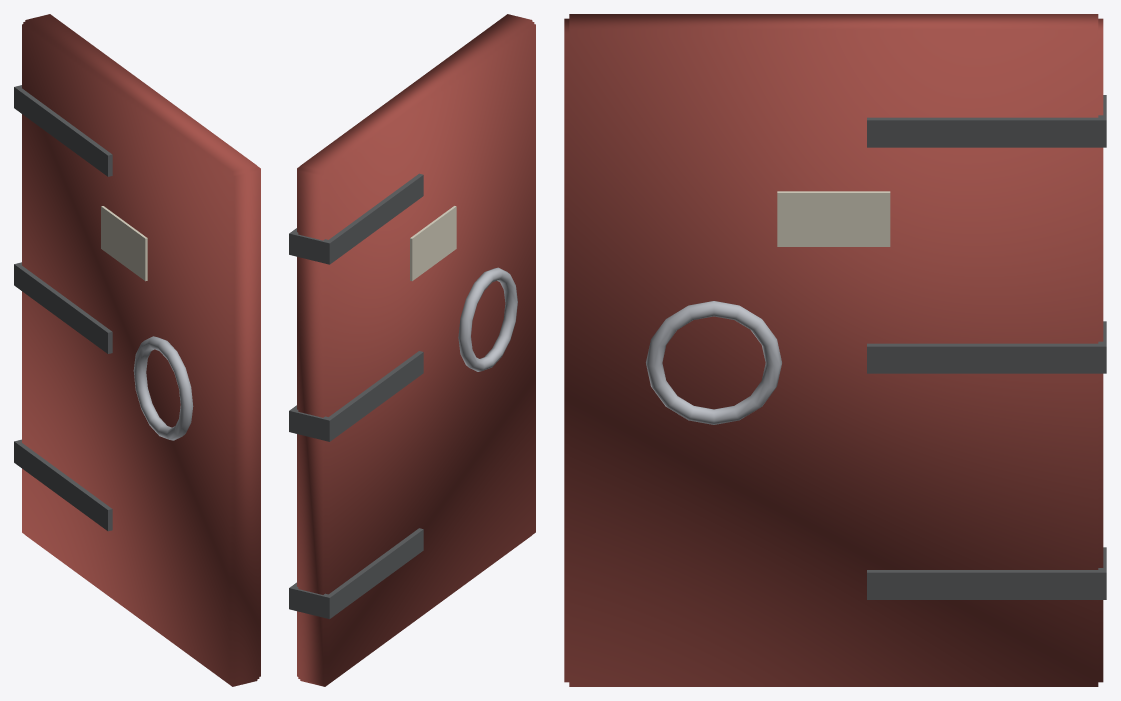
File: red_bulkhead_door.glb
3 views of the same model, side by side, from view 1: azimuth 30°, elevation 25°; view 2: azimuth 150°, elevation 25°; view 3: azimuth 270°, elevation 25° (orthographic). The views are drawn at different scales.
Parts seen in each view (by area): view 1: DoorLeaf, LockWheel_-0.11, StrapHinge_1.1, StrapHinge_1.85, StrapHinge_0.35, WarningPlaque; view 2: DoorLeaf, StrapHinge_1.85, StrapHinge_1.1, StrapHinge_0.35, LockWheel_-0.11, WarningPlaque; view 3: DoorLeaf, StrapHinge_1.1, StrapHinge_1.85, StrapHinge_0.35, WarningPlaque, LockWheel_0.11.
Boxes of the visible parts, box(x1,y1,x2,y2) form: DoorLeaf: box(22, 14, 260, 686); LockWheel_-0.11: box(133, 336, 193, 440); StrapHinge_1.1: box(14, 262, 112, 353); StrapHinge_1.85: box(14, 85, 112, 176); StrapHinge_0.35: box(14, 439, 112, 531); WarningPlaque: box(101, 206, 147, 281); DoorLeaf: box(297, 14, 535, 686); StrapHinge_1.85: box(289, 173, 423, 264); StrapHinge_1.1: box(289, 351, 423, 441); StrapHinge_0.35: box(289, 528, 423, 618); LockWheel_-0.11: box(458, 267, 517, 371); WarningPlaque: box(410, 206, 456, 281); DoorLeaf: box(564, 14, 1103, 686); StrapHinge_1.1: box(867, 321, 1106, 373); StrapHinge_1.85: box(867, 95, 1106, 147); StrapHinge_0.35: box(867, 547, 1106, 599); WarningPlaque: box(777, 191, 890, 246); LockWheel_0.11: box(646, 301, 781, 424).
Bounding box in the file's own units: 0.27 × 2.18 × 1.63.
